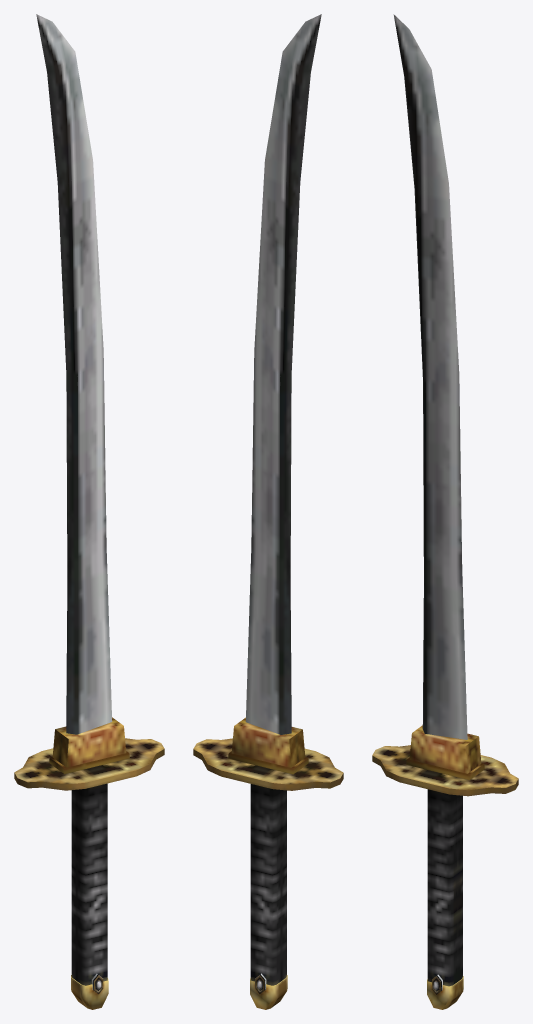
Rendered from starter_sword.glb.
The picture shows the model from 3 angles, left to right: view 1: azimuth 30°, elevation 25°; view 2: azimuth 150°, elevation 25°; view 3: azimuth 330°, elevation 25°; orthographic projection. The views are drawn at different scales.
Visible parts, largest first — view 1: weapon_chogeup_01.001; view 2: weapon_chogeup_01.001; view 3: weapon_chogeup_01.001.
Boxes of the visible parts, x1,y1,x2,y2 form: weapon_chogeup_01.001: (14, 14, 164, 1009); weapon_chogeup_01.001: (193, 14, 343, 1009); weapon_chogeup_01.001: (372, 14, 518, 1009).
Bounding box in the file's own units: 20.35 × 136 × 10.65.
1 material, 1 textured.
